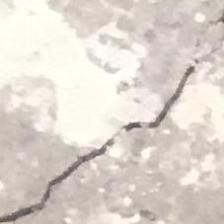Crack: (0, 64, 224, 221)
